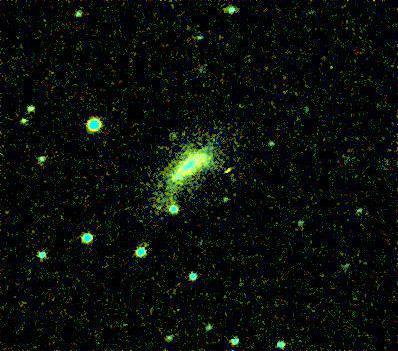star: (210, 158, 240, 188)
